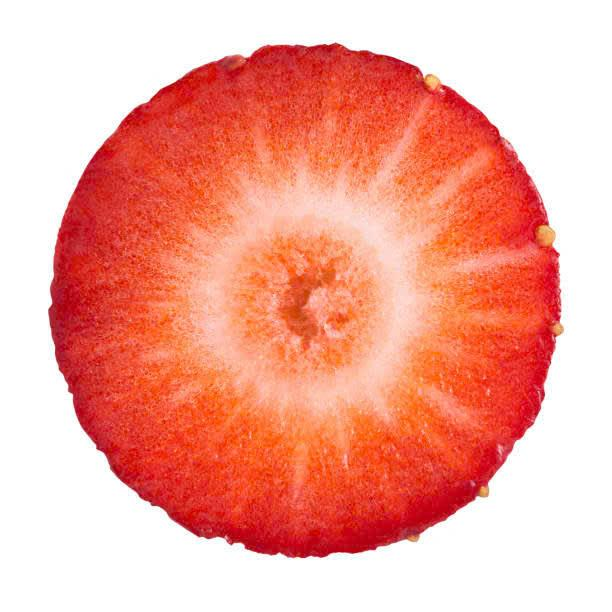strawberry: (42, 39, 612, 564)
